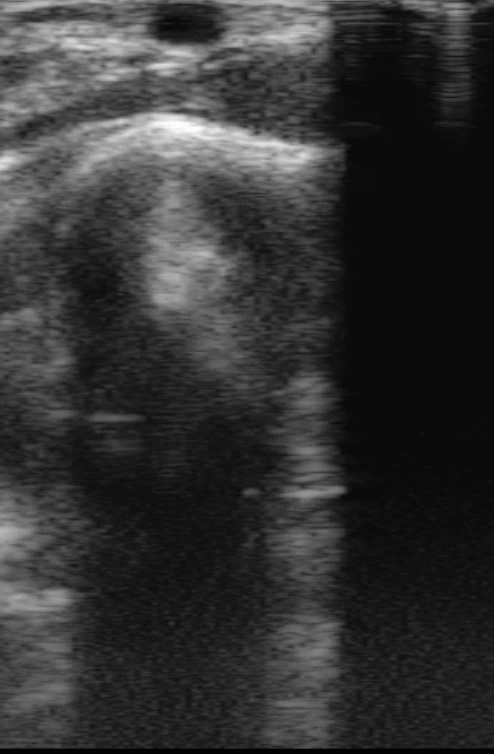veins_detect: (141, 3, 241, 56)
veins_seg: (149, 1, 231, 46)
